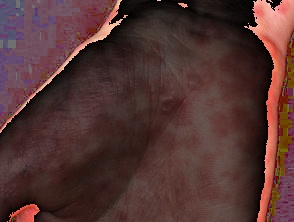SJS-TEN: (0, 7, 276, 222)
